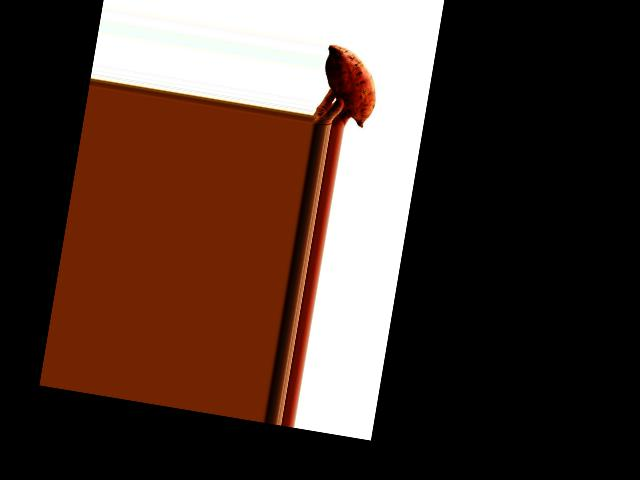sweet_potato: (314, 42, 388, 126)
